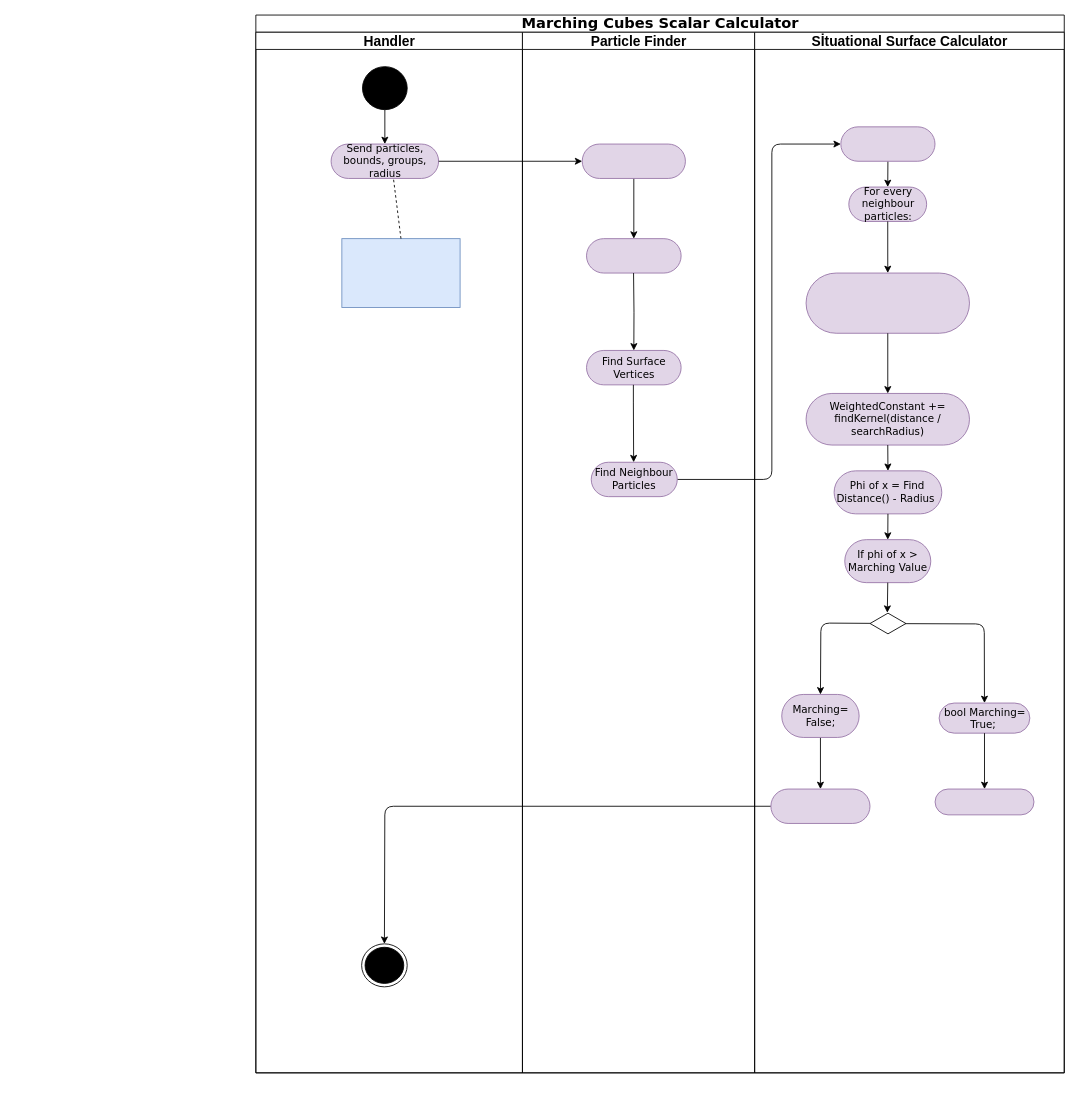
The diagram is 1079 pixels wide and 1117 high, and some of its shapes have lost their labels. The centre of each missing label's shape, as x and y in pixels:
"Add list as surface particle" belongs at point 820,805.
"Calculate Weight of x" belongs at point 887,143.
"Do Nothing" belongs at point 984,801.
"For every surface particle" belongs at point 633,255.
"Set Data" belongs at point 633,160.
"Vector4[] particles, Bounds bounds, HashModel[] groups, float radius" belongs at point 400,272.
"X bar = Sum every particle : Weight * Distance" belongs at point 887,302.
